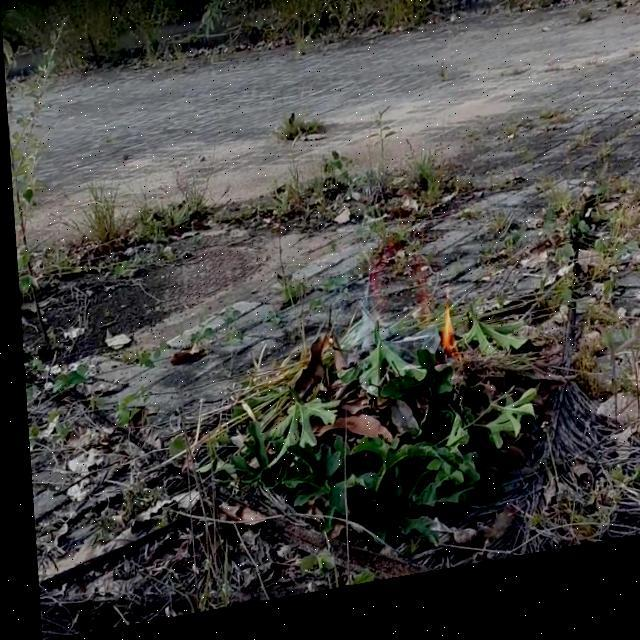Fire: (430, 313, 462, 389)
